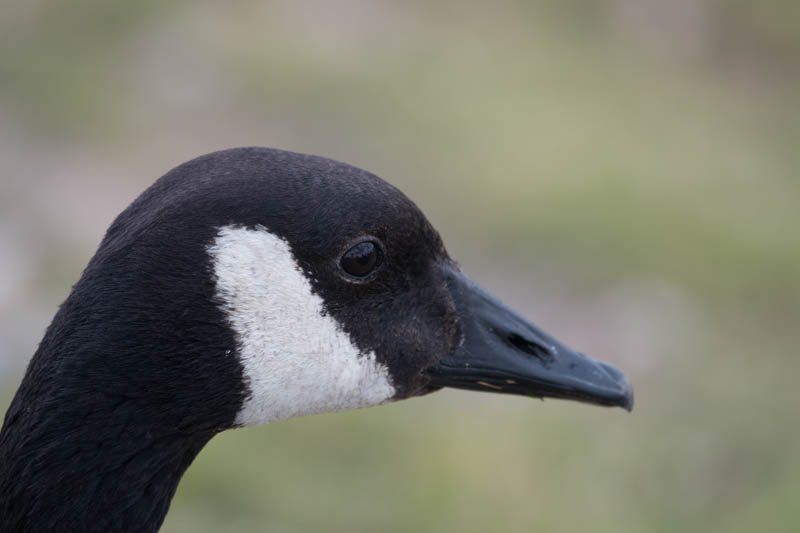goose-head: (77, 148, 634, 429)
